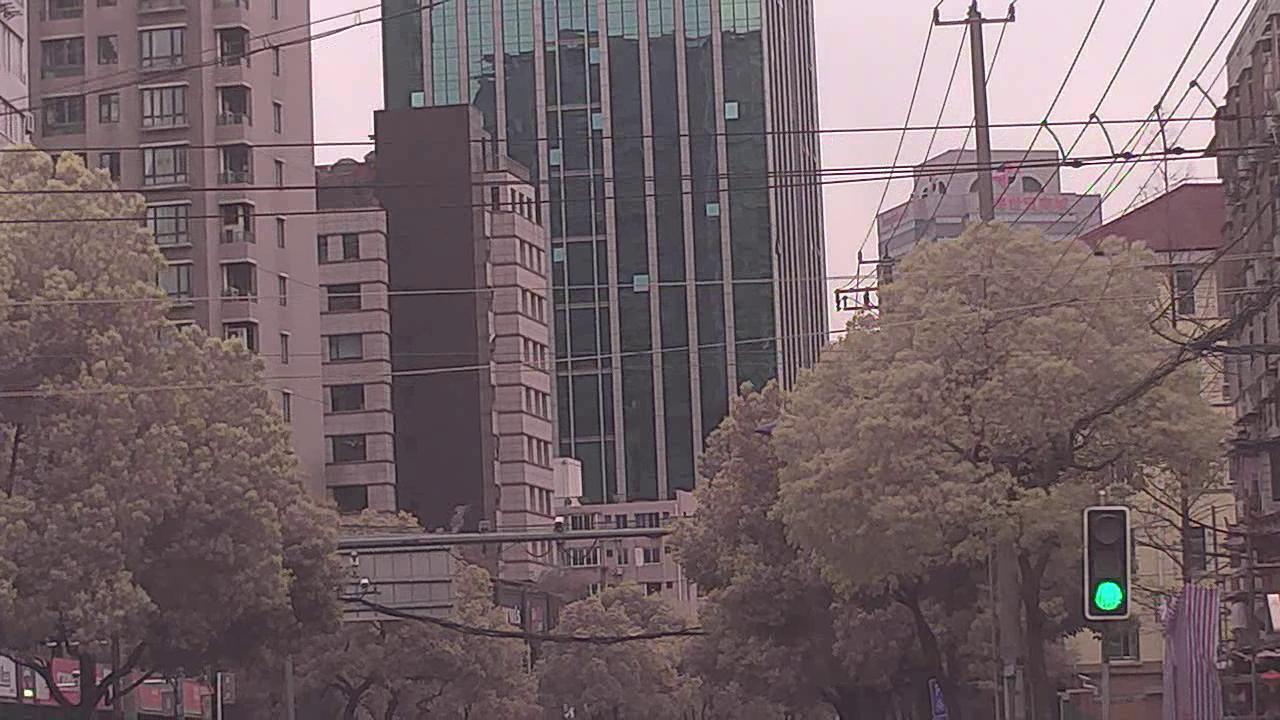traffic_light: (1084, 510, 1133, 619)
